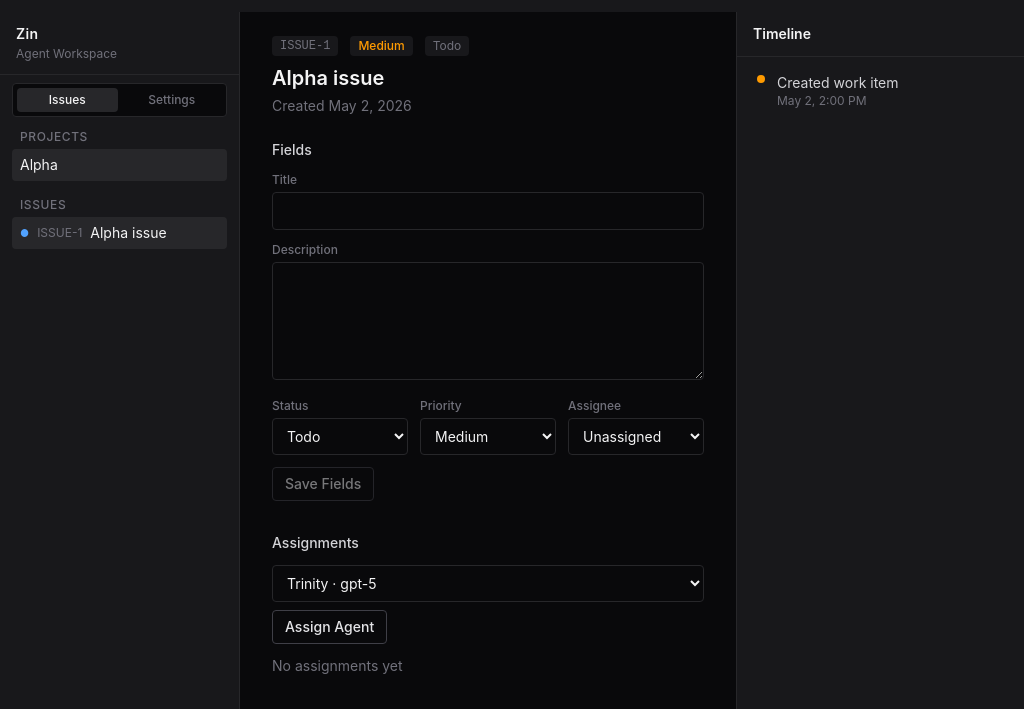
Test case: App › creates issue-detail and comment assignments and shows queued status
Check: the heading "Alpha issue" is shown, box [272,66,384,90]
Click the button "Assign Agent" at (330, 627), box [272,610,387,644]
(page scrolled)
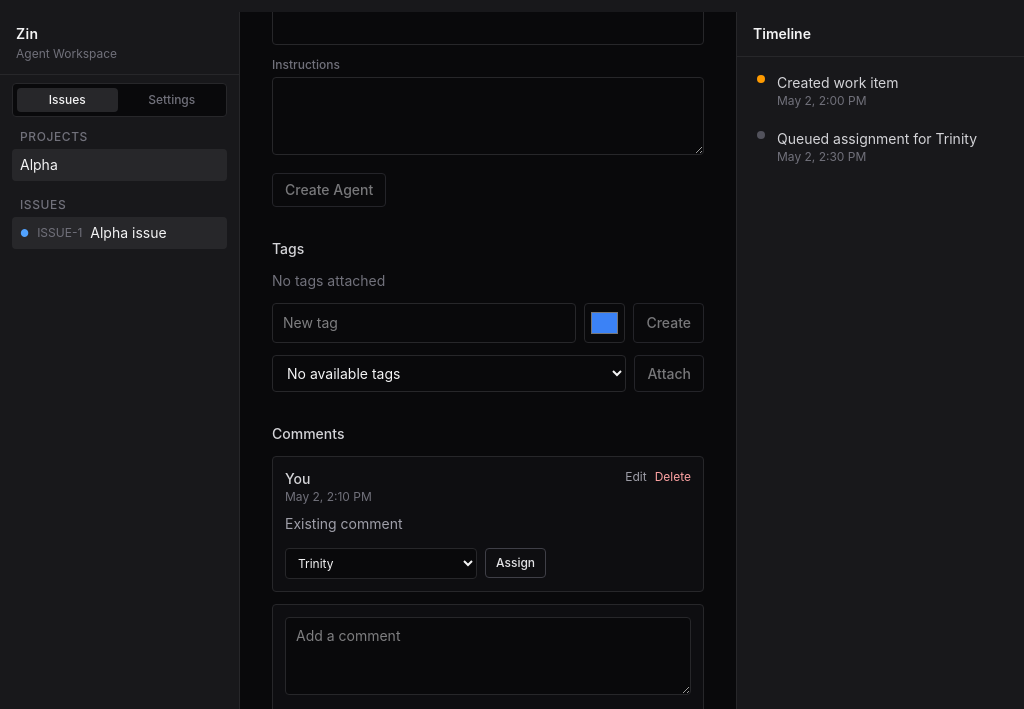
Check: the text "Queued assignment for Trinity" is shown, box [777,129,977,149]
Click the button "Assign" at (516, 563), box [485,548,546,578]
(page scrolled)
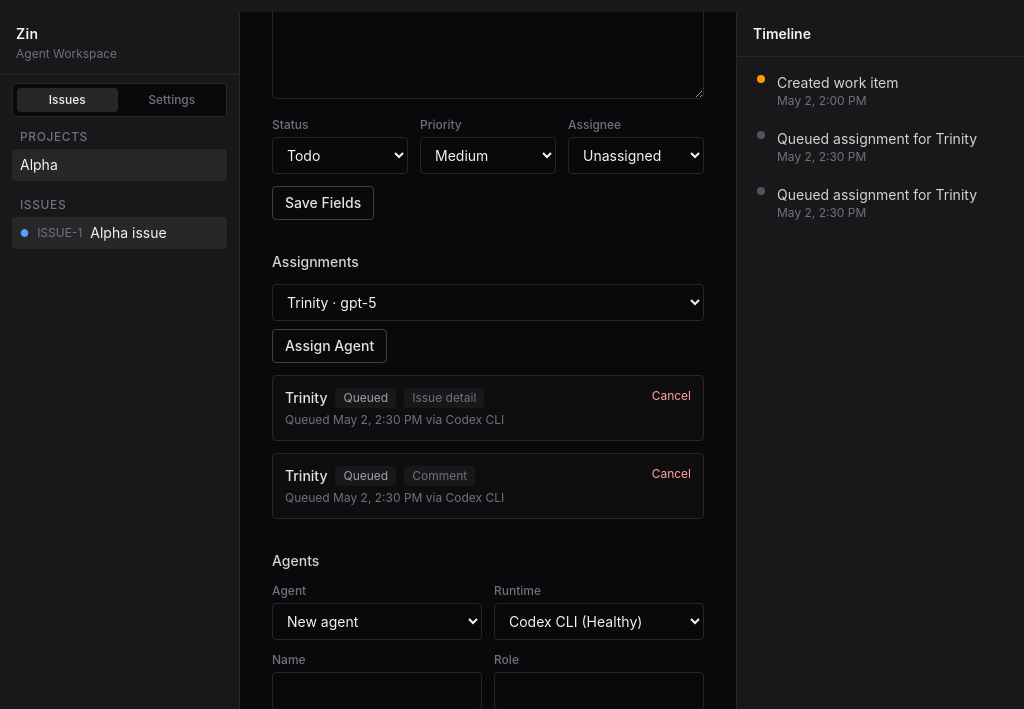
Click the button "Cancel" in the row of "Issue detail" at (671, 396), box [652,388,691,404]
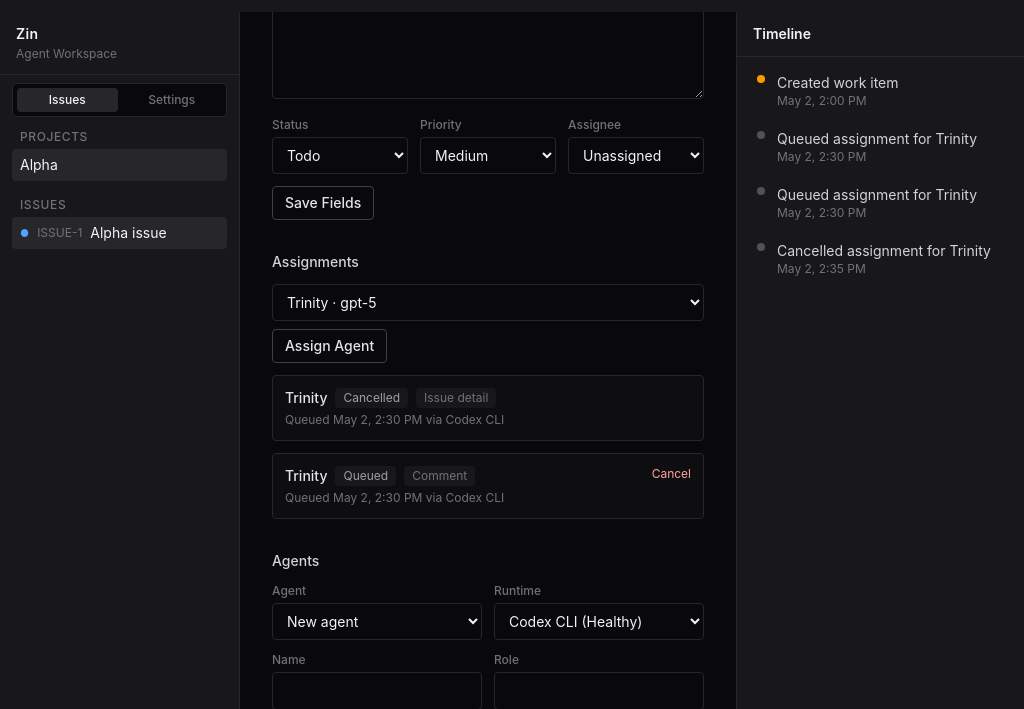
Check: the text "Cancelled assignment for Trinity" is shown, box [777,241,991,261]
Check: the text "Cancelled" is shown, box [336,388,408,408]
